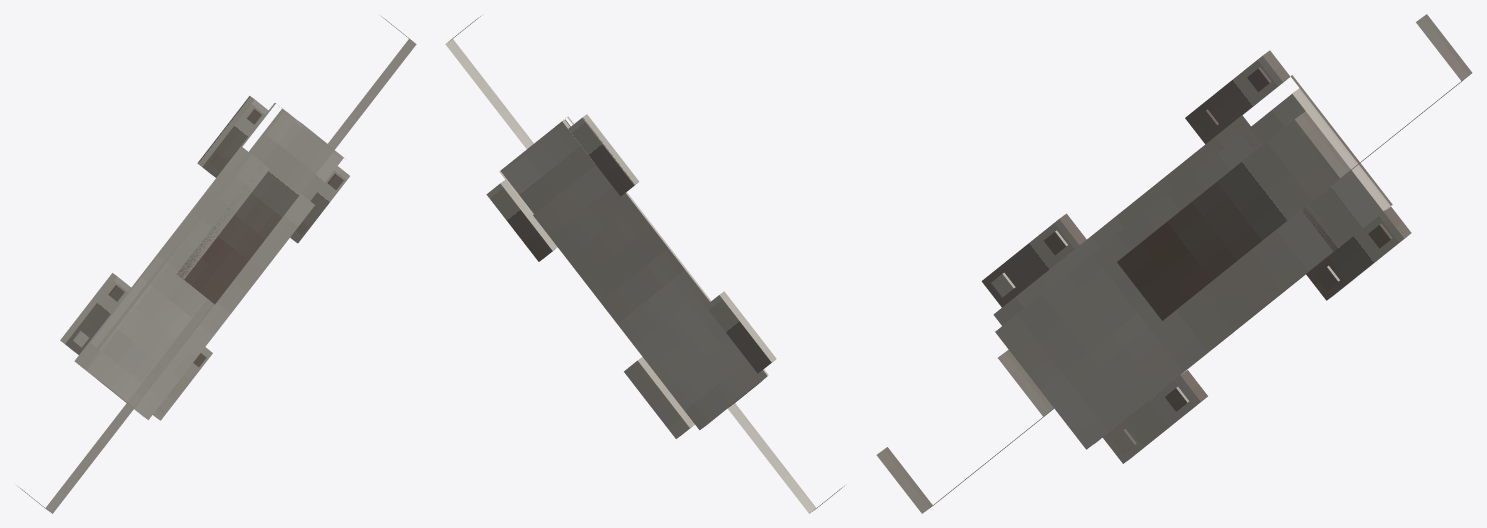
3 renders of one model, left to right at view 1: azimuth 30°, elevation 25°; view 2: azimuth 150°, elevation 25°; view 3: azimuth 330°, elevation 25°, orthographic. The views are drawn at different scales.
Size of the model in its own units: 1.13 by 1.13 by 0.0938.
